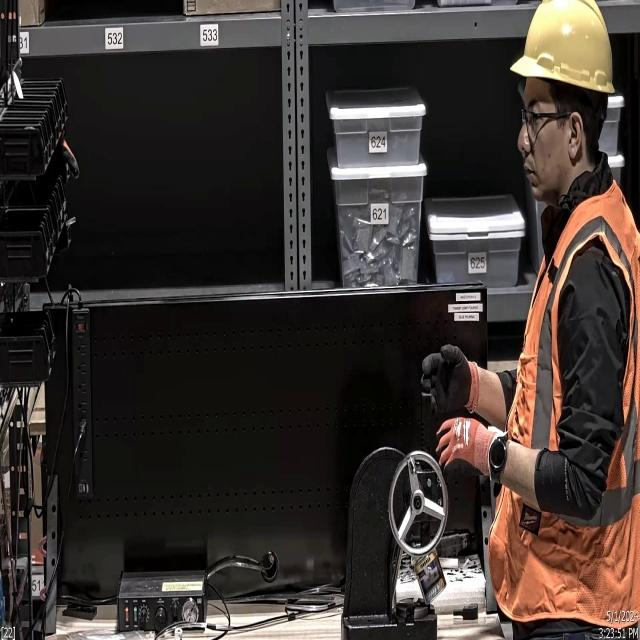gloves: (419, 346, 488, 419), (434, 422, 512, 486)
